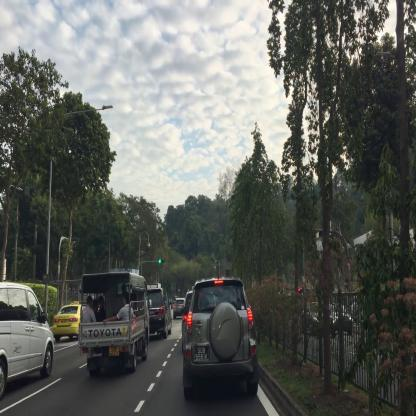green_traffic_light: (158, 259, 164, 263)
